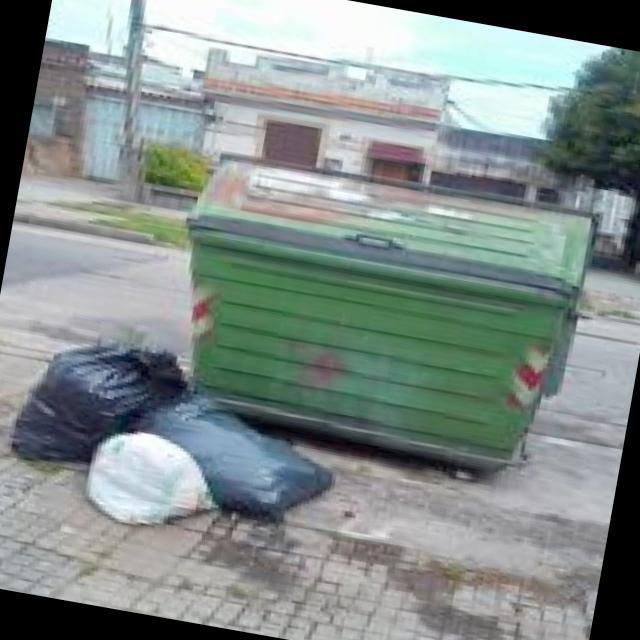garbage: (0, 314, 390, 575)
